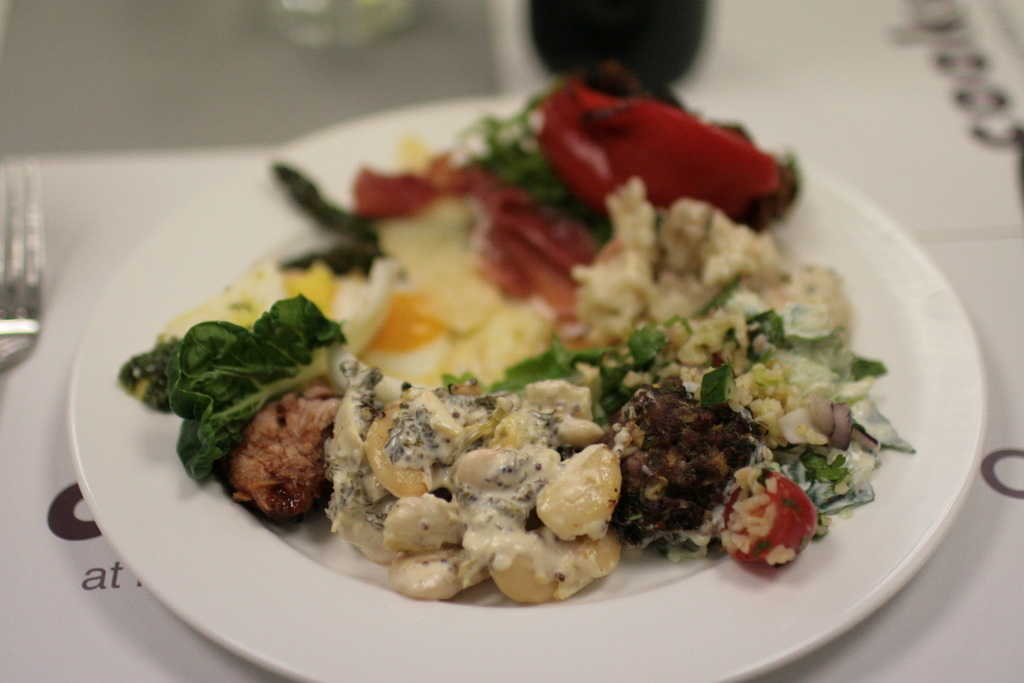salad: (46, 105, 963, 623)
